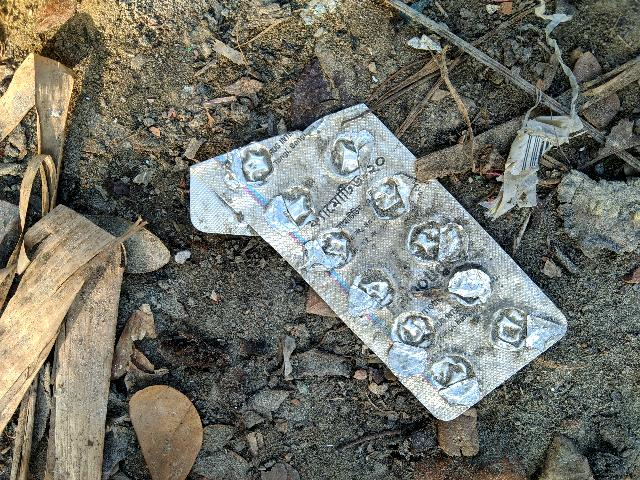medicine: (203, 55, 571, 437)
